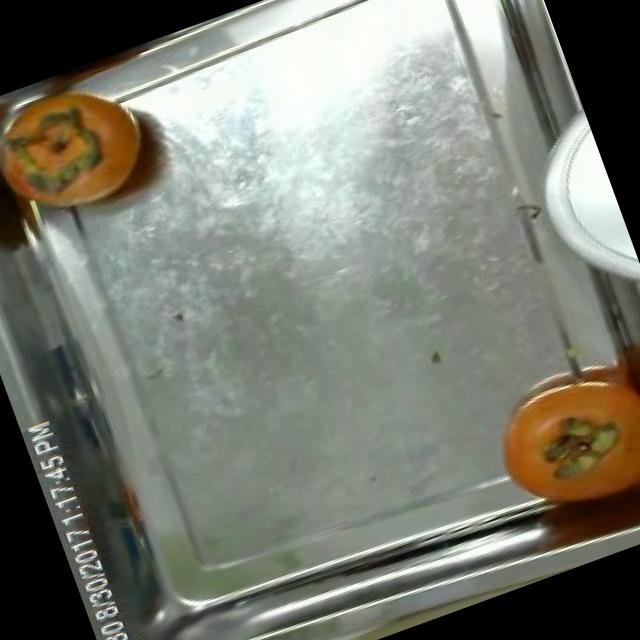Fruit: (458, 322, 640, 545), (0, 81, 116, 225)
